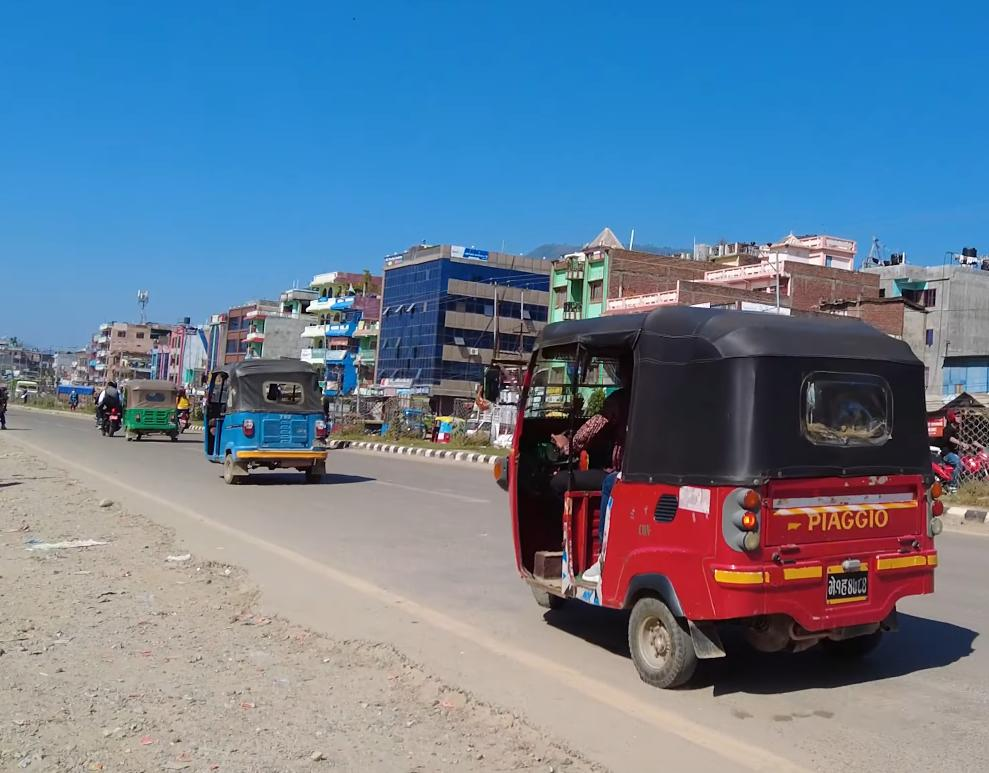auto_rickshaw: (490, 304, 944, 693), (203, 356, 344, 489), (114, 366, 188, 444)
